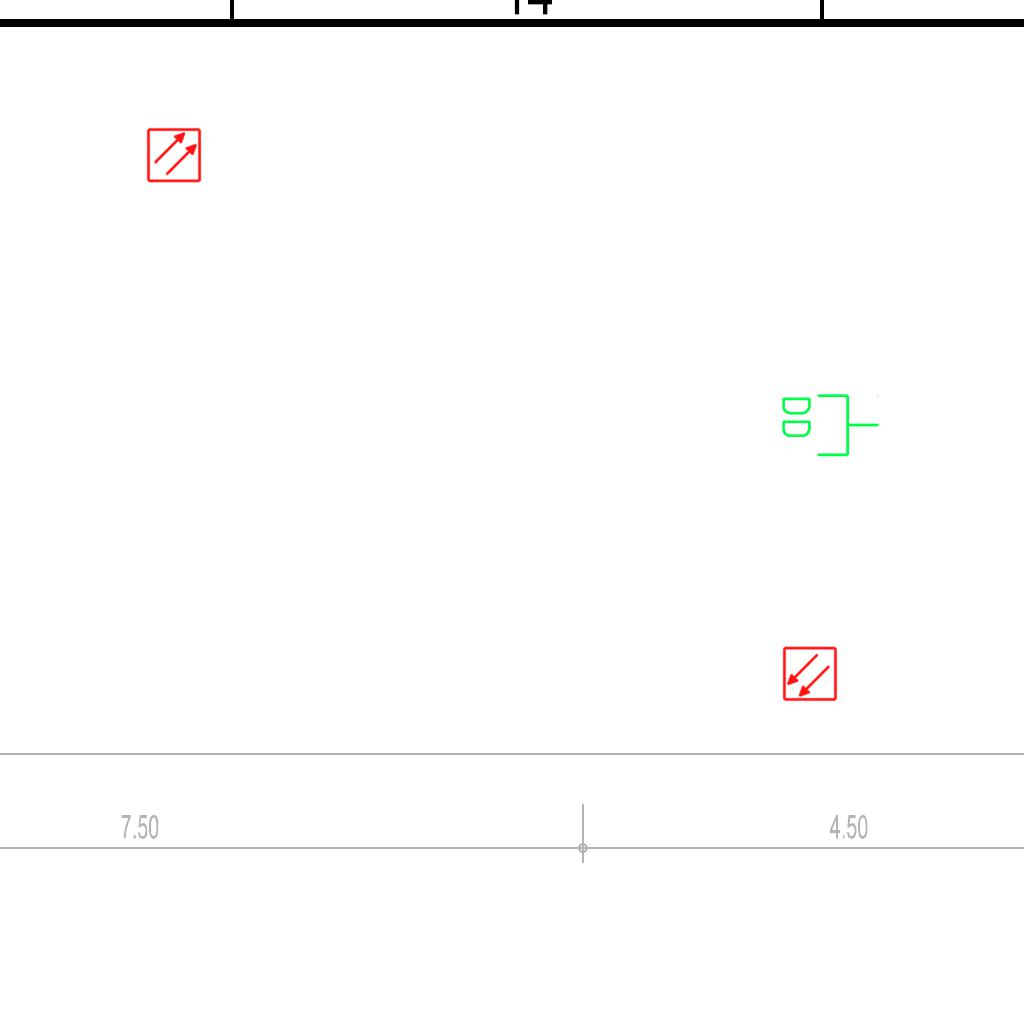Datenanschluss_zweifach: (778, 390, 881, 459)
RMO_Rauchmelder_optischer: (782, 646, 838, 702), (146, 127, 202, 183)
